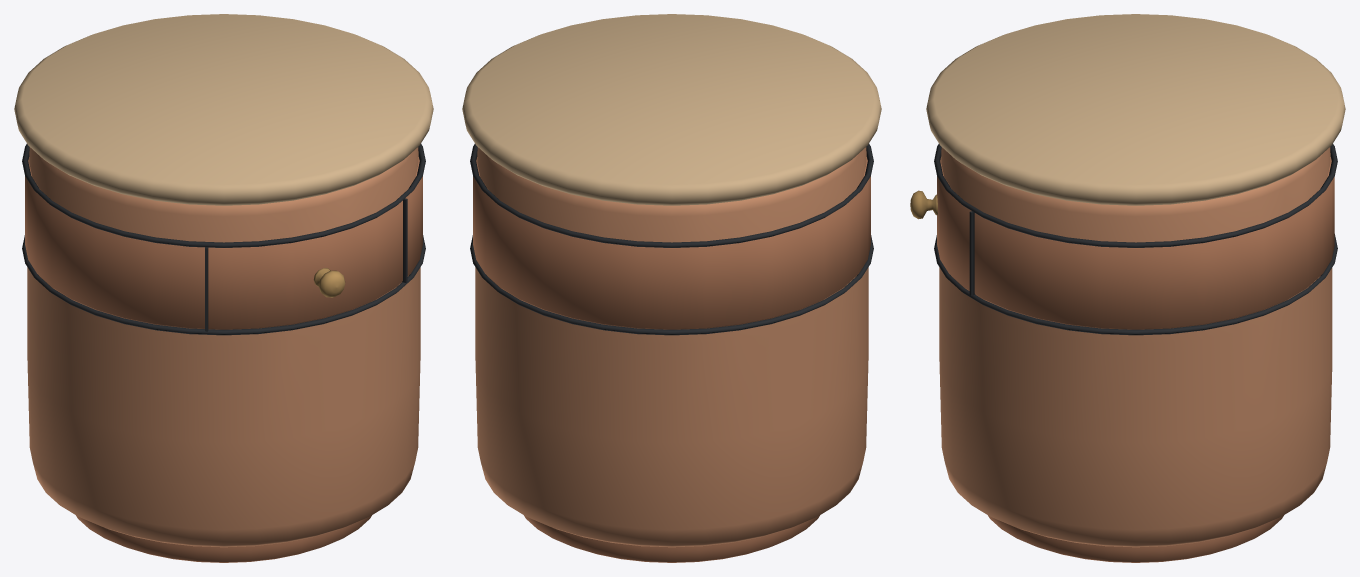
Rendered from nightstandRound.glb.
3 renders of one model, left to right at view 1: azimuth 30°, elevation 25°; view 2: azimuth 150°, elevation 25°; view 3: azimuth 270°, elevation 25°, orthographic.
Parts seen in each view (by area): view 1: nightstandRound; view 2: nightstandRound; view 3: nightstandRound.
Part boxes in pixels (<box>): nightstandRound: <box>14,14,433,562</box>; nightstandRound: <box>462,14,881,562</box>; nightstandRound: <box>910,14,1345,562</box>.
Bounding box in the file's own units: 0.54 × 0.57 × 0.5605.
